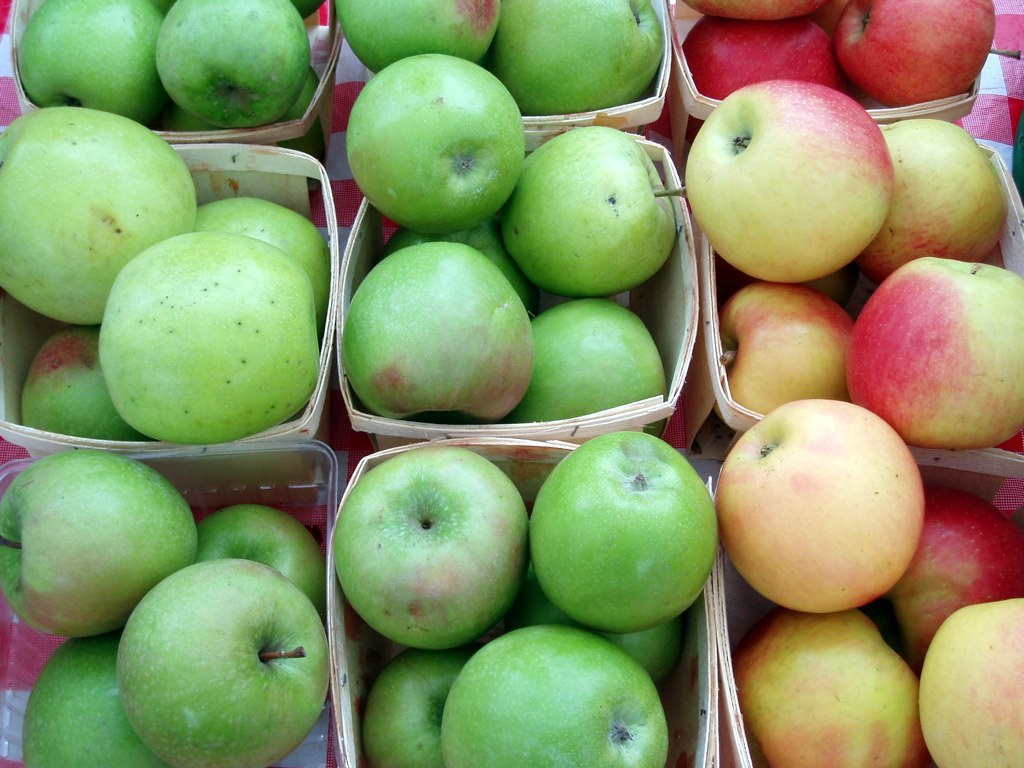Apple: (99, 229, 323, 443), (113, 557, 334, 767), (714, 395, 924, 612), (686, 84, 899, 287), (0, 111, 197, 328), (524, 430, 721, 634), (332, 448, 529, 651), (0, 454, 197, 643), (339, 242, 536, 426), (842, 260, 1022, 450), (339, 58, 524, 236), (442, 628, 673, 767), (499, 128, 689, 296), (732, 608, 920, 767), (858, 120, 1009, 291), (885, 488, 1022, 672), (485, 0, 666, 115), (16, 638, 174, 767), (195, 192, 332, 337), (152, 0, 309, 123), (17, 0, 170, 124), (515, 296, 670, 416), (718, 282, 853, 419), (828, 0, 999, 108), (919, 601, 1022, 767), (14, 322, 152, 443), (387, 217, 533, 319), (197, 504, 325, 618), (679, 14, 846, 100), (528, 590, 684, 680), (328, 0, 499, 68), (369, 657, 469, 767), (156, 70, 318, 128), (718, 260, 858, 309), (679, 0, 828, 24), (816, 0, 858, 34), (289, 0, 330, 20)
